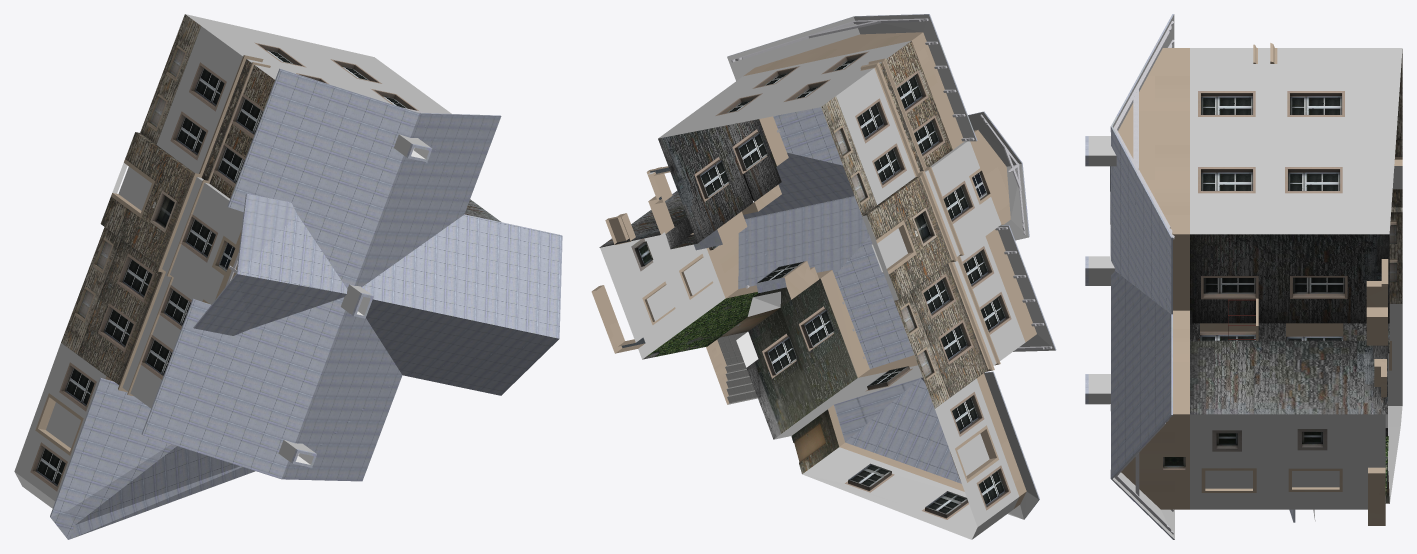
Rendered from Toompuiestee_26.obj.
The picture shows the model from 3 angles, left to right: view 1: azimuth 30°, elevation 25°; view 2: azimuth 150°, elevation 25°; view 3: azimuth 270°, elevation 25°; orthographic projection. The views are drawn at different scales.
Visible parts, largest first — view 1: Toompuiestee_26; view 2: Toompuiestee_26; view 3: Toompuiestee_26.
Boxes of the visible parts, left/top/right/bottom form: Toompuiestee_26: left=14, top=14, right=562, bottom=539; Toompuiestee_26: left=591, top=14, right=1056, bottom=539; Toompuiestee_26: left=1085, top=14, right=1402, bottom=539.
Bounding box in the file's own units: 21.9 × 21.63 × 12.24.
